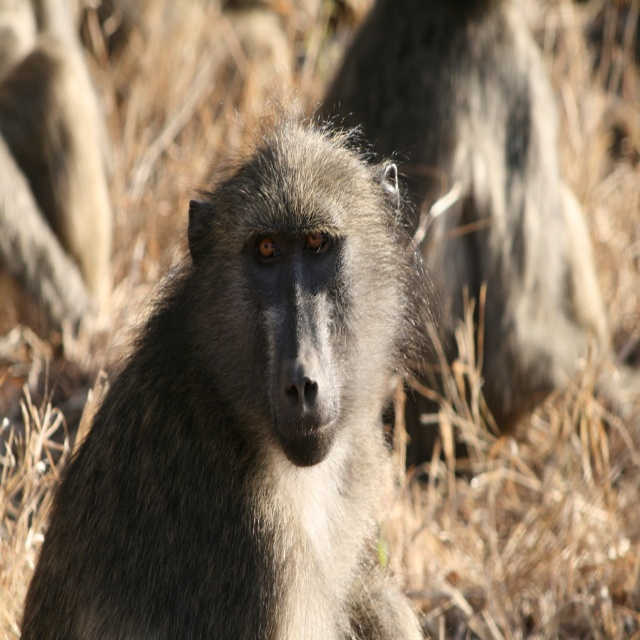Monkey: (18, 103, 430, 639)
